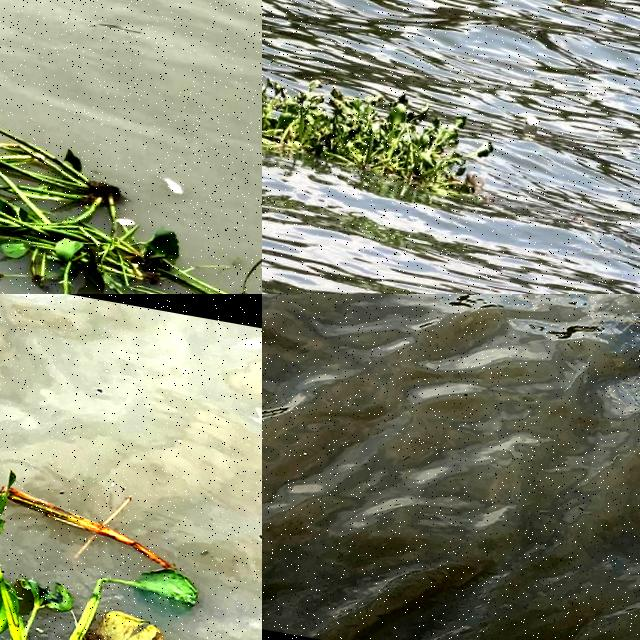water-hyacinth: (1, 116, 263, 295), (1, 457, 196, 640), (263, 71, 503, 202)
